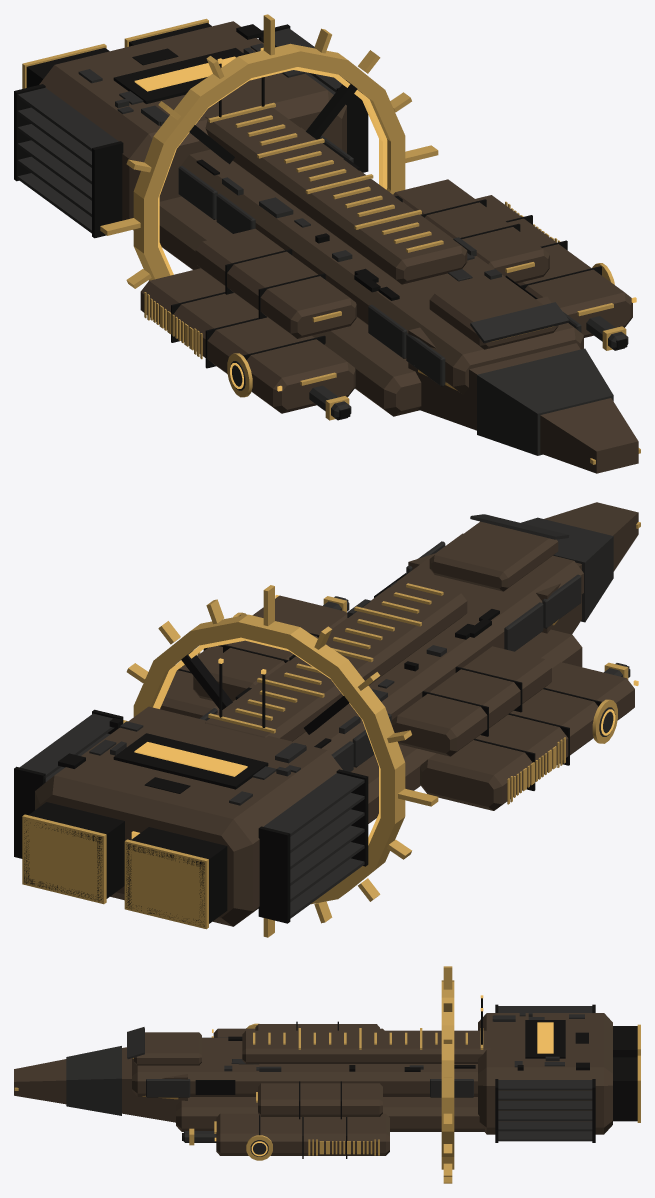
Rendered from goniec-wybudzeni-trade-34-lod0.glb.
3 views of the same model, one above another, from view 1: azimuth 30°, elevation 25°; view 2: azimuth 150°, elevation 25°; view 3: azimuth 270°, elevation 25° (orthographic). The views are drawn at different scales.
Size of the model in its own units: 6.83 by 6.08 by 16.
